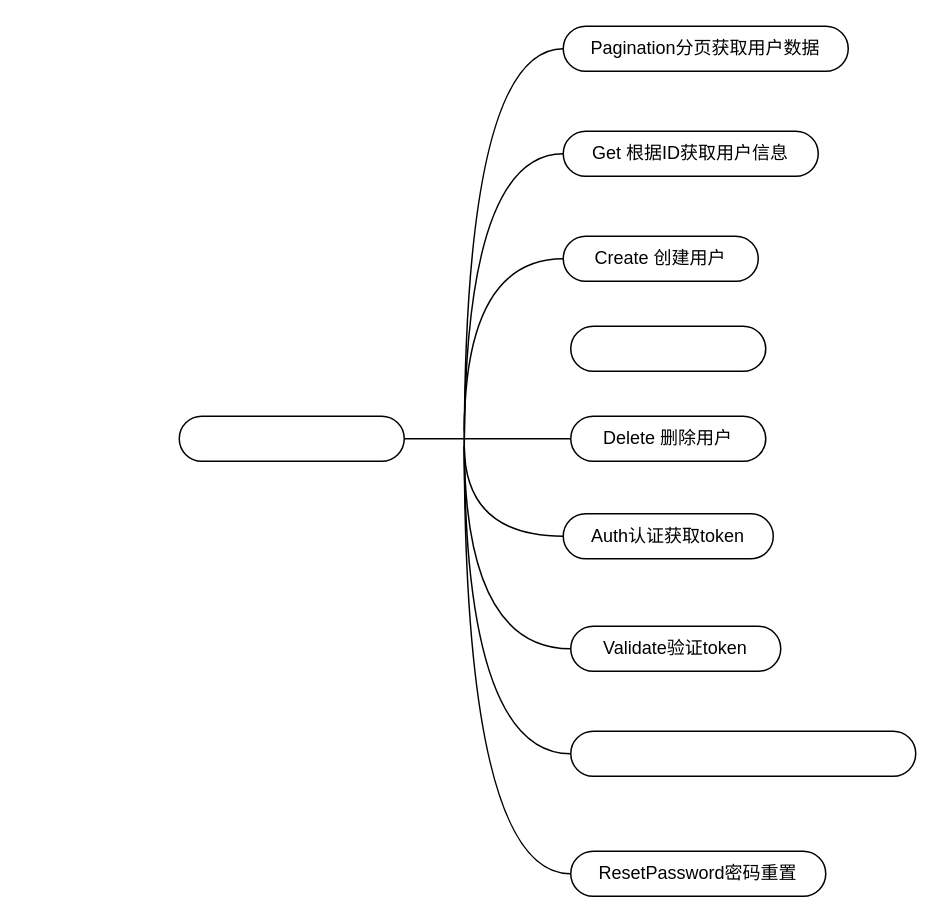
This 942x923 diagram has some shape labels left out. Each missing label, with the centre of its shape:
"CreatePasswordReset发起密码重置" goes at point (742, 753).
"Update 更新用户" goes at point (667, 348).
"user-service用户服务" goes at point (291, 438).
